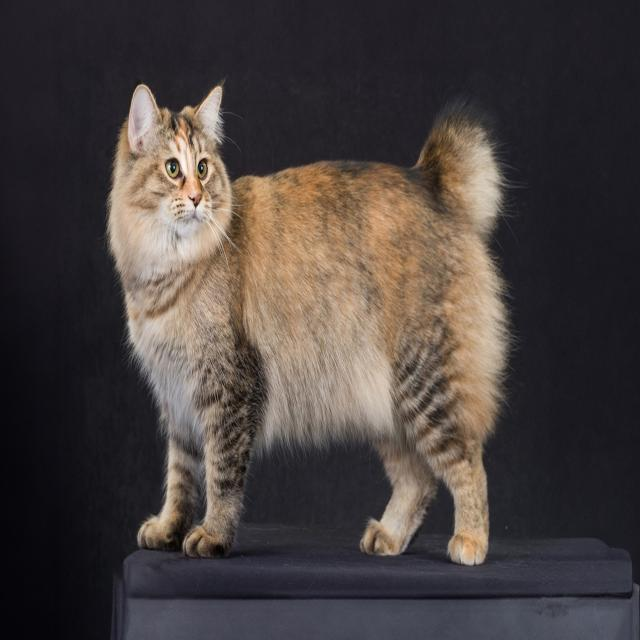American Bobtail: (104, 75, 516, 574)
